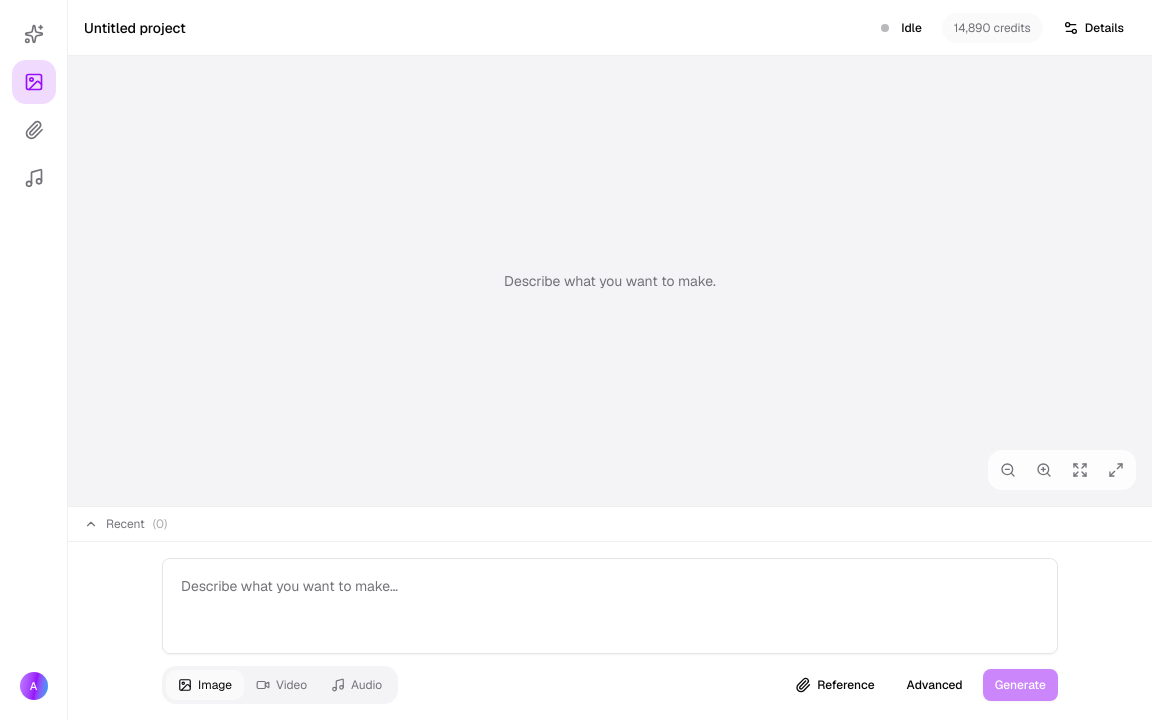
Scenario: Silent is refused on a model that always makes sound › explains why, in the words the customer needs
Step 1. Click the button "Video" → (282, 685), box 244,670 -> 319,700
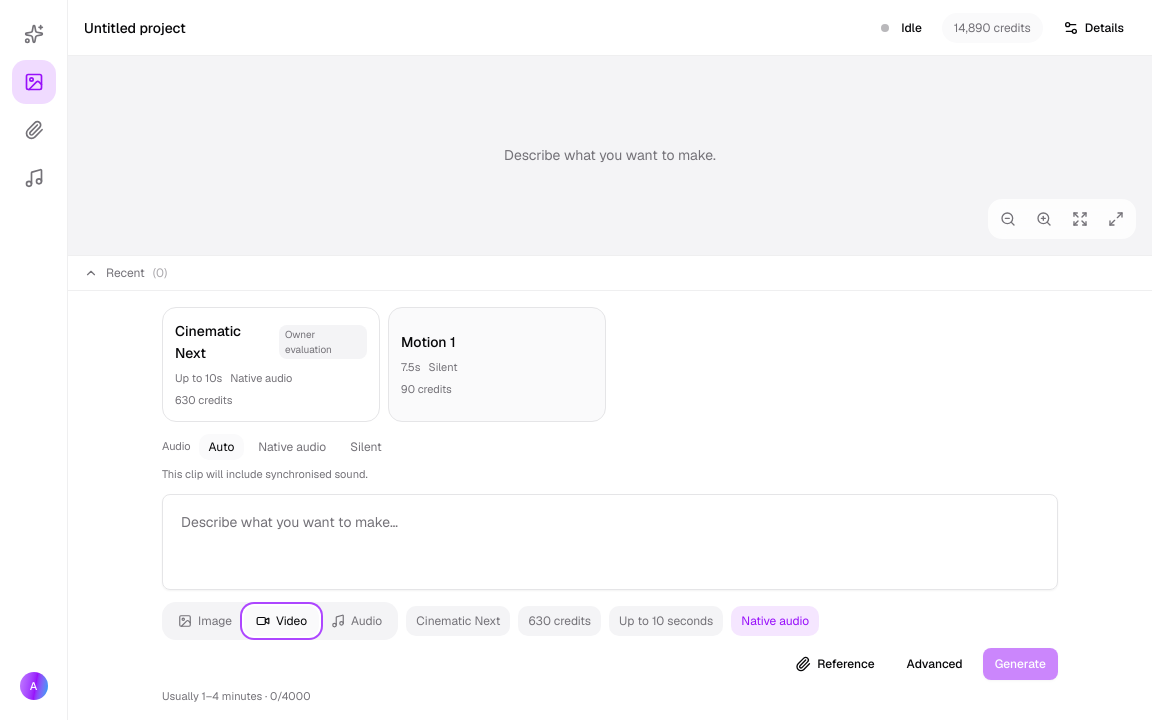
Step 2. Click the radio button labelled "Silent" → (366, 446), box 340,434 -> 392,460
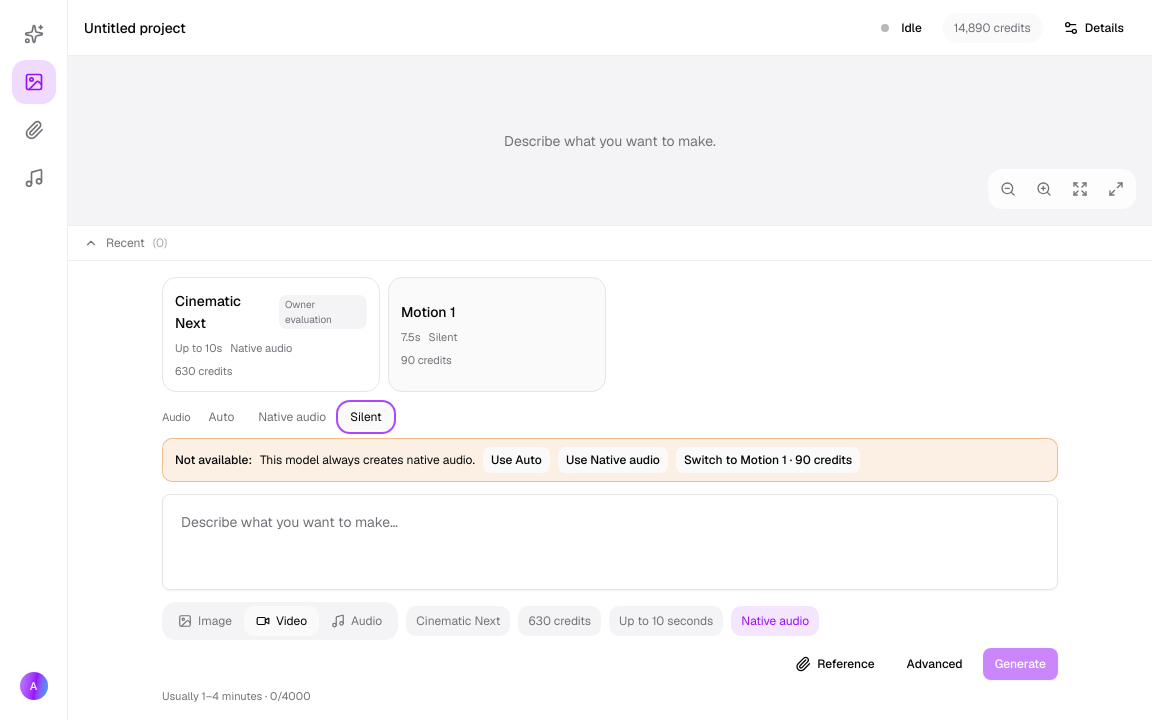
Expected: the message shows "This model always creates native audio.", 260,452 -> 475,468
